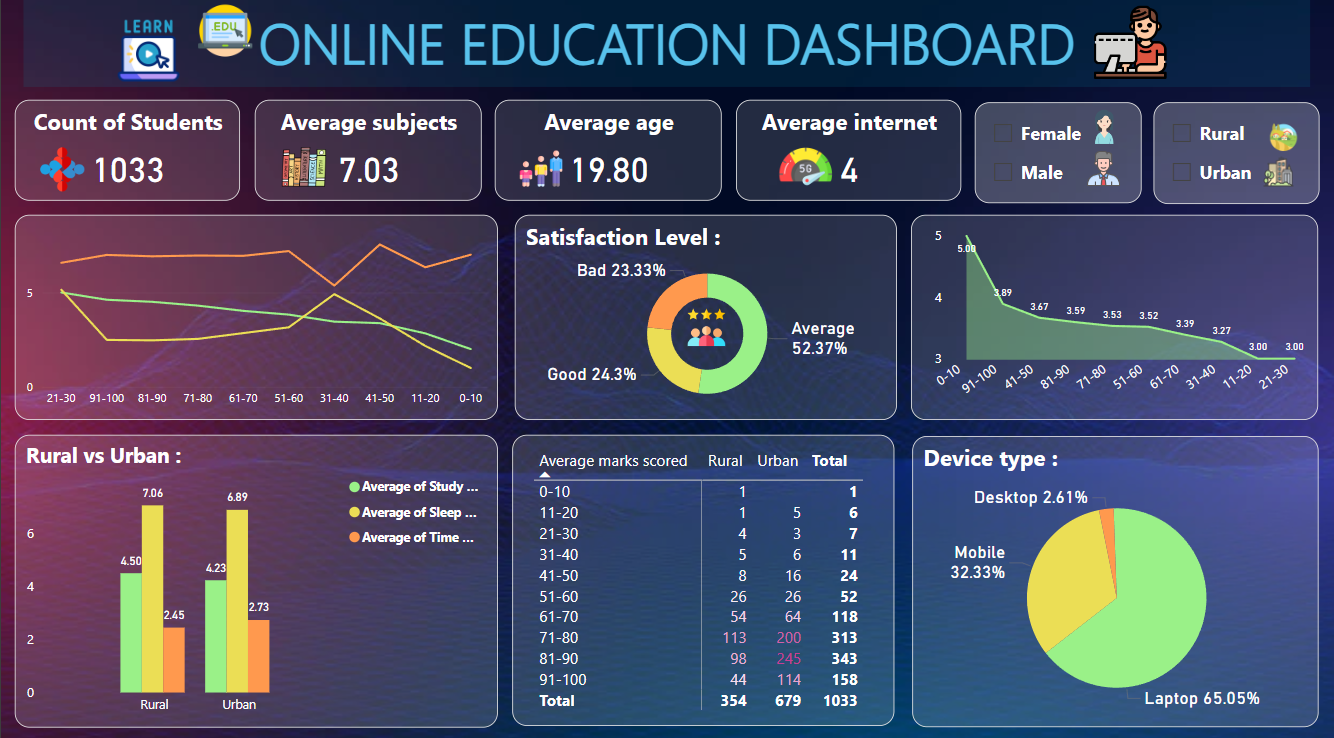

The page's visual inventory and layout, read from the dashboard file:
{"tool":"powerbi","page":{"name":"Dash board","canvas":[1280,720],"ordinal":0},"visuals":[{"type":"card","title":"Count of Students","fields":{"Values":["CountNonNull(ONLINE EDUCATION SYSTEM REVIEW.location)"]},"box":[12.7,104.8,215.9,96.8],"z":0},{"type":"card","title":"Average subjects","fields":{"Values":["Avg(ONLINE EDUCATION SYSTEM REVIEW.Number of Subjects)"]},"box":[242.9,104.8,217.5,96.8],"z":1000},{"type":"card","title":"Average internet","fields":{"Values":["Avg(ONLINE EDUCATION SYSTEM REVIEW.Internet facility in your locality)"]},"box":[704.8,104.8,215.9,96.8],"z":2000},{"type":"clusteredColumnChart","title":"Rural vs Urban :","fields":{"Category":["ONLINE EDUCATION SYSTEM REVIEW.Home Location"],"Y":["Avg(ONLINE EDUCATION SYSTEM REVIEW.Study time (Hours))","Avg(ONLINE EDUCATION SYSTEM REVIEW.Sleep time (Hours))","Avg(ONLINE EDUCATION SYSTEM REVIEW.Time spent on social media (Hours))"]},"box":[12.7,425.4,463.5,281],"z":3000},{"type":"card","title":"Average age","fields":{"Values":["Avg(ONLINE EDUCATION SYSTEM REVIEW.Age(Years))"]},"box":[473,104.8,217.5,96.8],"z":4000},{"type":"lineChart","fields":{"Category":["ONLINE EDUCATION SYSTEM REVIEW.Average marks scored"],"Y":["Avg(ONLINE EDUCATION SYSTEM REVIEW.Study time (Hours))","Avg(ONLINE EDUCATION SYSTEM REVIEW.Time spent on social media (Hours))","Avg(ONLINE EDUCATION SYSTEM REVIEW.Sleep time (Hours))"]},"box":[12.7,214.3,463.5,196.8],"z":5000},{"type":"donutChart","title":"Satisfaction Level :","fields":{"Category":["ONLINE EDUCATION SYSTEM REVIEW.satisfaction in Online Education"],"Y":["CountNonNull(ONLINE EDUCATION SYSTEM REVIEW.location)"]},"box":[492.1,214.3,366.7,196.8],"z":6000},{"type":"pivotTable","fields":{"Rows":["ONLINE EDUCATION SYSTEM REVIEW.Average marks scored"],"Values":["CountNonNull(ONLINE EDUCATION SYSTEM REVIEW.location)"],"Columns":["ONLINE EDUCATION SYSTEM REVIEW.Home Location"]},"box":[490.5,425.4,366.7,279.4],"z":7000},{"type":"areaChart","fields":{"Category":["ONLINE EDUCATION SYSTEM REVIEW.Average marks scored"],"Y":["Avg(ONLINE EDUCATION SYSTEM REVIEW.Internet facility in your locality)"]},"box":[873,214.3,390.5,196.8],"z":8000},{"type":"textbox","box":[21.5,7.7,1233.8,84.6],"z":9000},{"type":"image","box":[1031.7,109.5,52.4,42.9],"z":10000},{"type":"image","box":[1031.7,147.6,50.8,46],"z":11000},{"type":"image","box":[1209.5,122.2,41.3,36.5],"z":12000},{"type":"image","box":[482.5,144.4,69.8,50.8],"z":13000},{"type":"image","box":[652.4,300,49.2,46],"z":14000},{"type":"image","box":[723.8,136.5,95.2,63.5],"z":15000},{"type":"image","box":[31.7,144.4,55.6,52.4],"z":16000},{"type":"image","box":[249.2,142.9,82.5,52.4],"z":17000},{"type":"image","box":[1200,154,50.8,39.7],"z":18000},{"type":"image","box":[173.5,7.2,82.4,62.2],"z":19000},{"type":"image","box":[94,23.1,95.4,69.4],"z":20000},{"type":"image","box":[1039.5,7.2,86.7,83.9],"z":21000},{"type":"slicer","fields":{"Values":["ONLINE EDUCATION SYSTEM REVIEW.Gender"]},"box":[933.3,106.3,160.3,96.8],"z":22000},{"type":"slicer","fields":{"Values":["ONLINE EDUCATION SYSTEM REVIEW.Home Location"]},"box":[1105.1,106.4,159,97.4],"z":23000},{"type":"pieChart","title":"Device type :","fields":{"Y":["CountNonNull(ONLINE EDUCATION SYSTEM REVIEW.location)"],"Category":["ONLINE EDUCATION SYSTEM REVIEW.Device type used to attend classes"]},"box":[874.2,427.3,389.7,278.9],"z":24000}]}

Visuals, with their boxes in screenshot pixels (x1, y1, x2, y2), scaled from the page's 1280x720 canvas onto the 1334x738 screenshot:
"Count of Students" card: BBox(13, 107, 238, 207)
"Average subjects" card: BBox(253, 107, 480, 207)
"Average internet" card: BBox(735, 107, 960, 207)
"Rural vs Urban :" clusteredColumnChart: BBox(13, 436, 496, 724)
"Average age" card: BBox(493, 107, 720, 207)
lineChart - ONLINE EDUCATION SYSTEM REVIEW.Average marks scored x Avg(ONLINE EDUCATION SYSTEM REVIEW.Study time (Hours)): BBox(13, 220, 496, 421)
"Satisfaction Level :" donutChart: BBox(513, 220, 895, 421)
pivotTable - ONLINE EDUCATION SYSTEM REVIEW.Average marks scored x CountNonNull(ONLINE EDUCATION SYSTEM REVIEW.location): BBox(511, 436, 893, 722)
areaChart - ONLINE EDUCATION SYSTEM REVIEW.Average marks scored x Avg(ONLINE EDUCATION SYSTEM REVIEW.Internet facility in your locality): BBox(910, 220, 1317, 421)
textbox: BBox(22, 8, 1308, 95)
image: BBox(1075, 112, 1130, 156)
image: BBox(1075, 151, 1128, 198)
image: BBox(1261, 125, 1304, 163)
image: BBox(503, 148, 576, 200)
image: BBox(680, 308, 731, 355)
image: BBox(754, 140, 854, 205)
image: BBox(33, 148, 91, 202)
image: BBox(260, 146, 346, 200)
image: BBox(1251, 158, 1304, 199)
image: BBox(181, 7, 267, 71)
image: BBox(98, 24, 197, 95)
image: BBox(1083, 7, 1174, 93)
slicer - ONLINE EDUCATION SYSTEM REVIEW.Gender: BBox(973, 109, 1140, 208)
slicer - ONLINE EDUCATION SYSTEM REVIEW.Home Location: BBox(1152, 109, 1317, 209)
"Device type :" pieChart: BBox(911, 438, 1317, 724)
